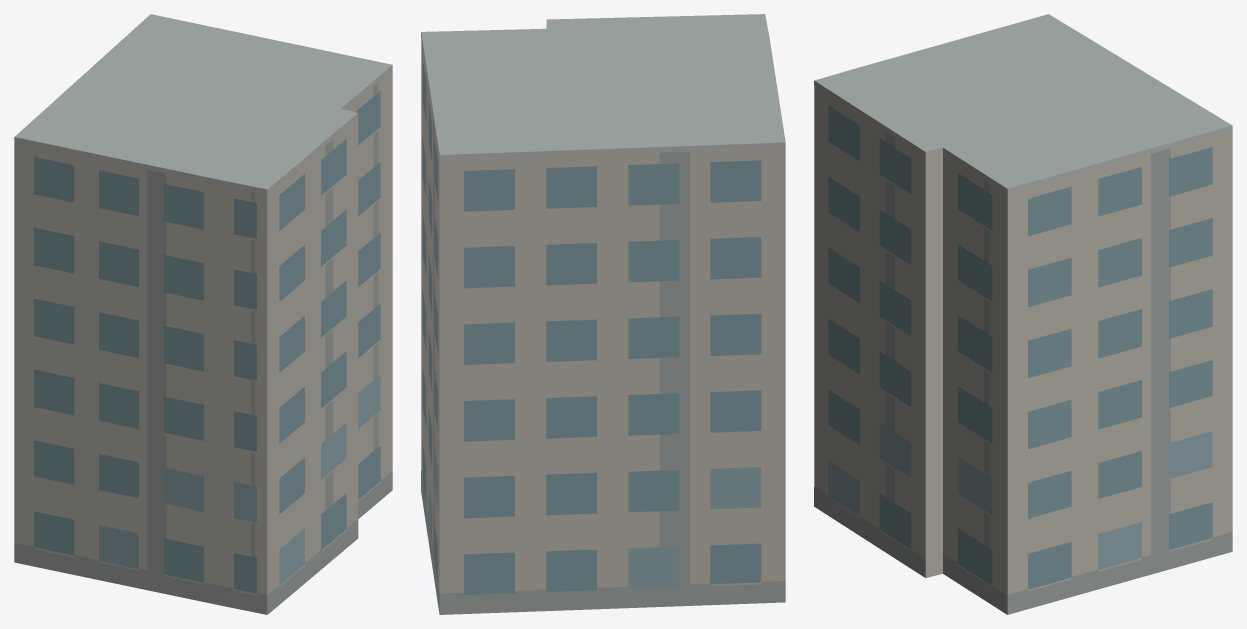
The model's file is survey-upis-32814337.glb.
3 renders of one model, left to right at view 1: azimuth 30°, elevation 25°; view 2: azimuth 150°, elevation 25°; view 3: azimuth 270°, elevation 25°, orthographic. The views are drawn at different scales.
Visible parts, largest first — view 1: survey-upis-32814337.tmp; view 2: survey-upis-32814337.tmp; view 3: survey-upis-32814337.tmp.
Boxes of the visible parts, x1,y1,x2,y2 form: survey-upis-32814337.tmp: (14, 14, 392, 614); survey-upis-32814337.tmp: (421, 14, 785, 614); survey-upis-32814337.tmp: (814, 14, 1232, 614).
Size of the model in its own units: 17.6 by 20 by 17.81.
